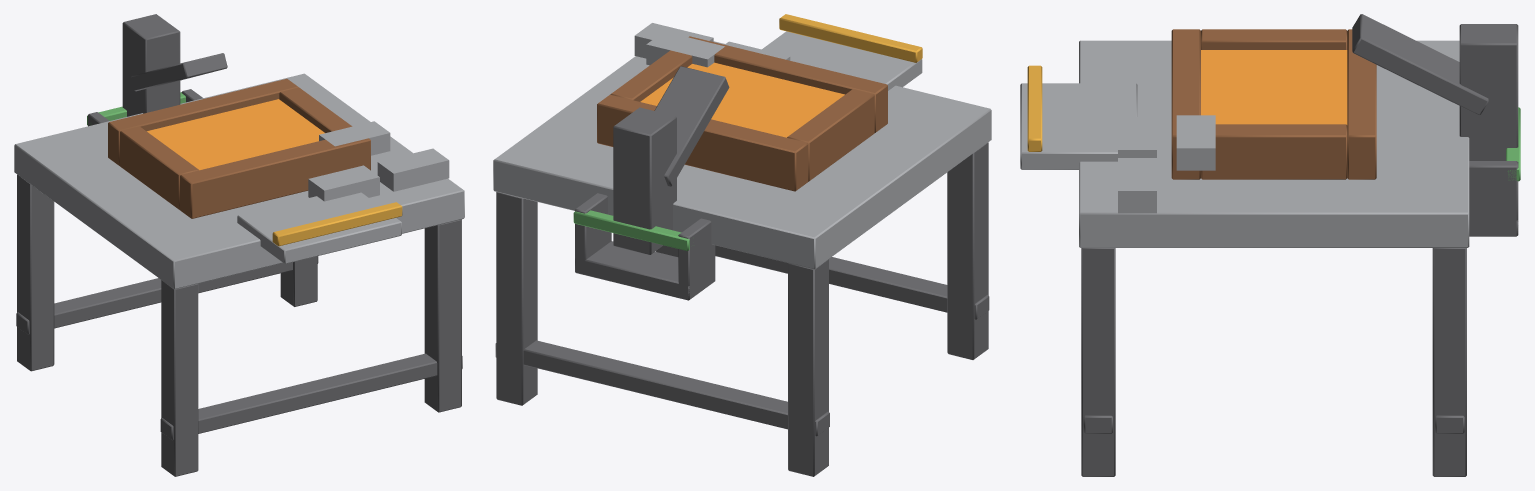
The model's file is feCaster.fbx.
The picture shows the model from 3 angles, left to right: view 1: azimuth 30°, elevation 25°; view 2: azimuth 150°, elevation 25°; view 3: azimuth 270°, elevation 25°; orthographic projection. The views are drawn at different scales.
Visible parts, largest first — view 1: feCaster_Base, FeCastMetal, FeCastReady; view 2: feCaster_Base, FeCastMetal, FeCastReady; view 3: feCaster_Base, FeCastMetal, FeCastReady.
Part boxes in pixels (x1,y1,x2,y2): feCaster_Base: (14, 14, 464, 476); FeCastMetal: (147, 99, 324, 170); FeCastReady: (308, 121, 449, 201); feCaster_Base: (493, 14, 991, 476); FeCastMetal: (640, 62, 844, 137); FeCastReady: (634, 23, 790, 67); feCaster_Base: (1020, 14, 1520, 476); FeCastMetal: (1201, 50, 1347, 124); FeCastReady: (1118, 115, 1215, 213).
Bounding box in the file's own units: 0.84 × 0.828 × 1.02.
